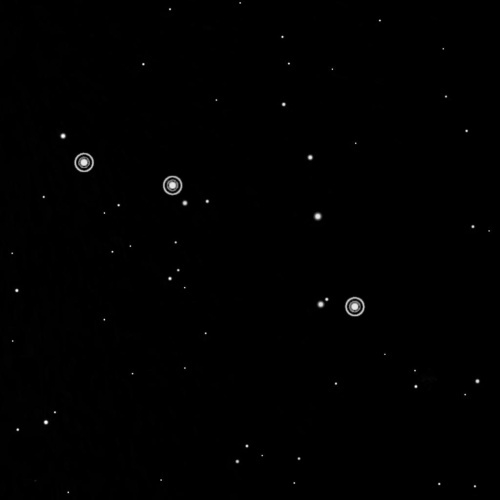vulpecula: (69, 146, 377, 325)
